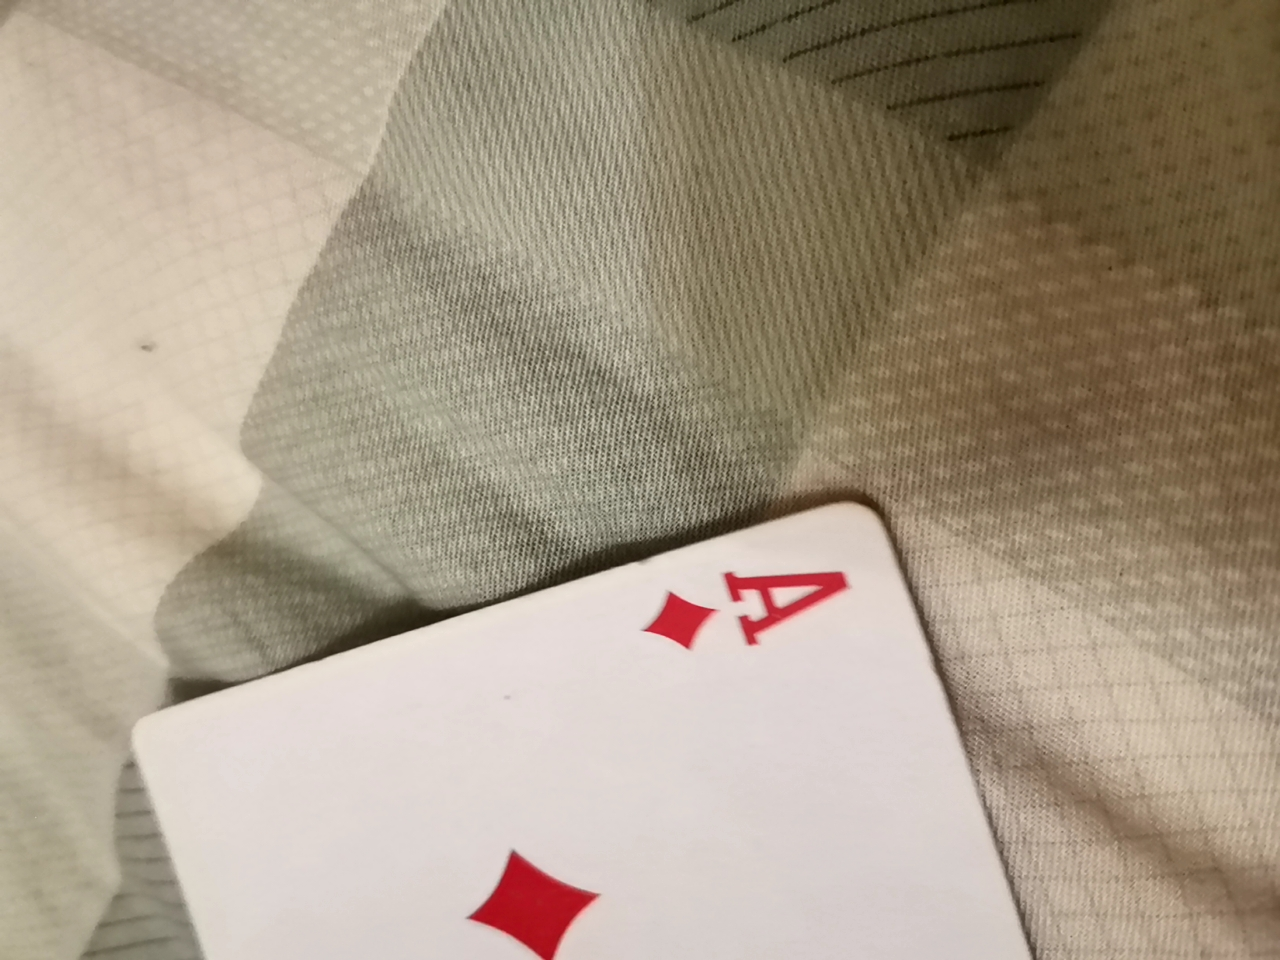fk a: (126, 525, 1079, 948)
